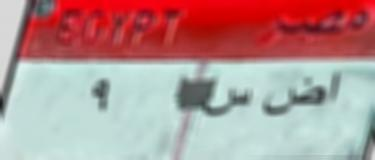9: (87, 73, 114, 118)
alif: (328, 66, 344, 110)
daad: (262, 76, 326, 120)
seen: (204, 78, 253, 123)
